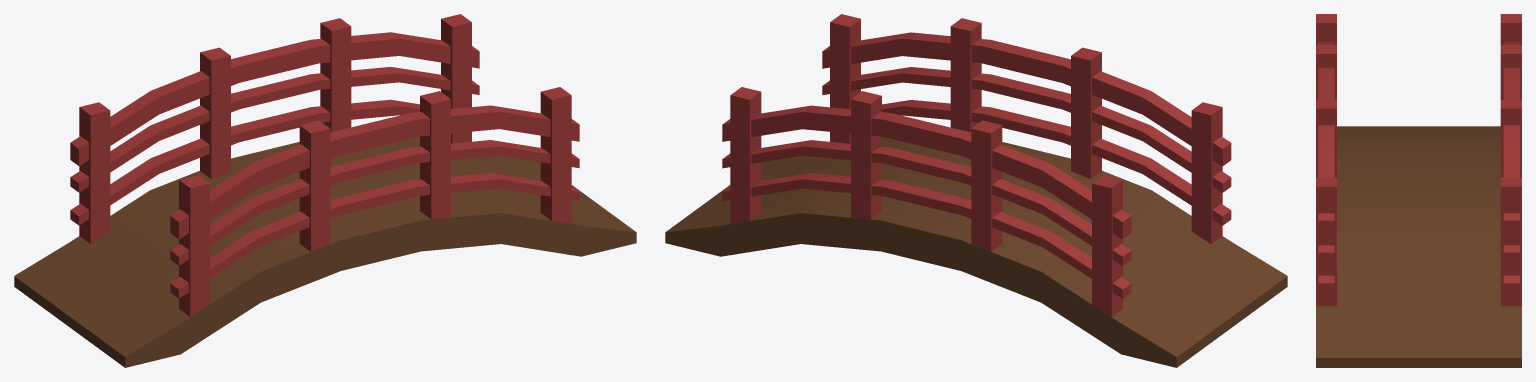
The model's file is bridge.fbx.
The picture shows the model from 3 angles, left to right: view 1: azimuth 30°, elevation 25°; view 2: azimuth 150°, elevation 25°; view 3: azimuth 270°, elevation 25°; orthographic projection. The views are drawn at different scales.
Visible parts, largest first — view 1: bridge; view 2: bridge; view 3: bridge.
Boxes of the visible parts, <box> form: bridge: <box>14,14,636,367</box>; bridge: <box>665,14,1287,367</box>; bridge: <box>1316,14,1521,367</box>.
Bounding box in the file's own units: 4 × 1.41 × 1.5.
